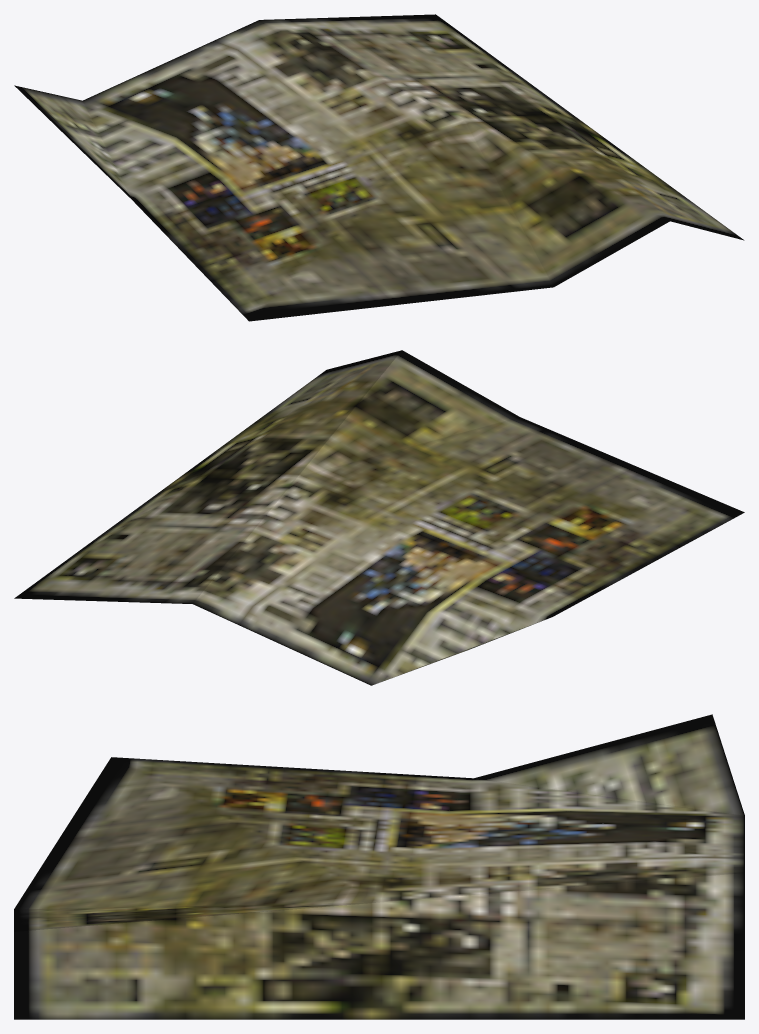
The model's file is M_Home_Garden_paper04.fbx.
The picture shows the model from 3 angles, top to bottom: view 1: azimuth 30°, elevation 25°; view 2: azimuth 150°, elevation 25°; view 3: azimuth 270°, elevation 25°; orthographic projection. The views are drawn at different scales.
Parts seen in each view (by area): view 1: M_Home_Garden_paper04; view 2: M_Home_Garden_paper04; view 3: M_Home_Garden_paper04.
Boxes of the visible parts, box(x1,y1,x2,y2) form: M_Home_Garden_paper04: box(14, 14, 744, 321); M_Home_Garden_paper04: box(14, 350, 744, 685); M_Home_Garden_paper04: box(14, 714, 744, 1019).
Bounding box in the file's own units: 84.96 × 8.13 × 100.
